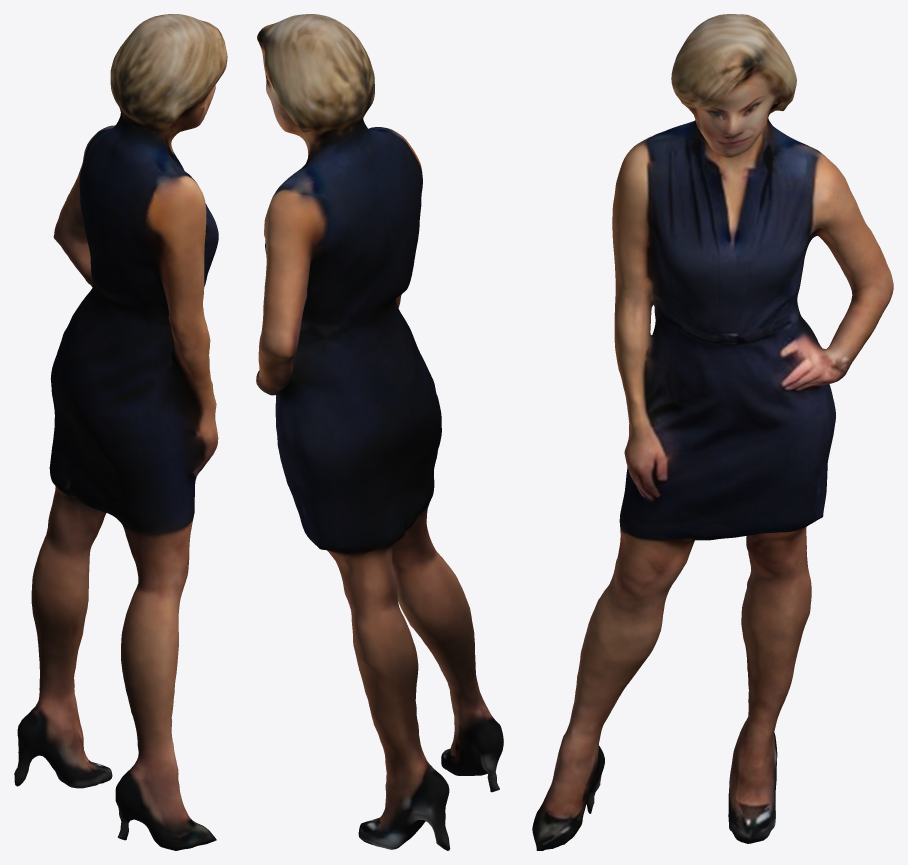
Rendered from mujer.glb.
3 renders of one model, left to right at view 1: azimuth 30°, elevation 25°; view 2: azimuth 150°, elevation 25°; view 3: azimuth 270°, elevation 25°, orthographic. The views are drawn at different scales.
Visible parts, largest first — view 1: tripo_node_6c89c238-7da6-4180-8450-d84e06334459_0; view 2: tripo_node_6c89c238-7da6-4180-8450-d84e06334459_0; view 3: tripo_node_6c89c238-7da6-4180-8450-d84e06334459_0.
Part boxes in pixels (x1,y1,x2,y2): tripo_node_6c89c238-7da6-4180-8450-d84e06334459_0: (14, 14, 227, 850); tripo_node_6c89c238-7da6-4180-8450-d84e06334459_0: (256, 14, 503, 850); tripo_node_6c89c238-7da6-4180-8450-d84e06334459_0: (532, 14, 893, 850).
Size of the model in its own units: 0.4628 by 1.72 by 0.6583.
1 material, 1 textured.
